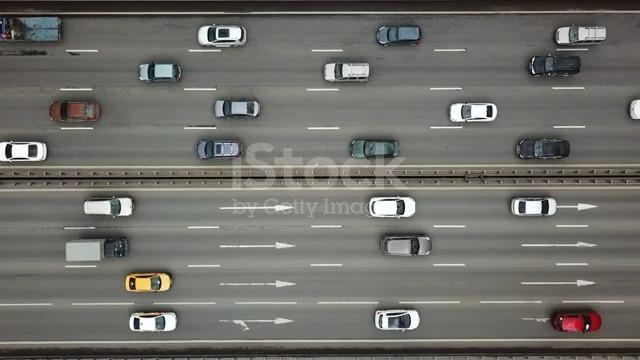Cars: (529, 54, 582, 77), (516, 138, 571, 160), (49, 100, 101, 123), (198, 24, 247, 48), (555, 25, 607, 46), (376, 24, 423, 47), (129, 311, 178, 333), (196, 139, 244, 161), (449, 102, 498, 123), (350, 139, 400, 159), (214, 98, 261, 119), (323, 62, 370, 83), (126, 272, 173, 293), (1, 141, 48, 162), (138, 62, 182, 84), (511, 197, 557, 217)
